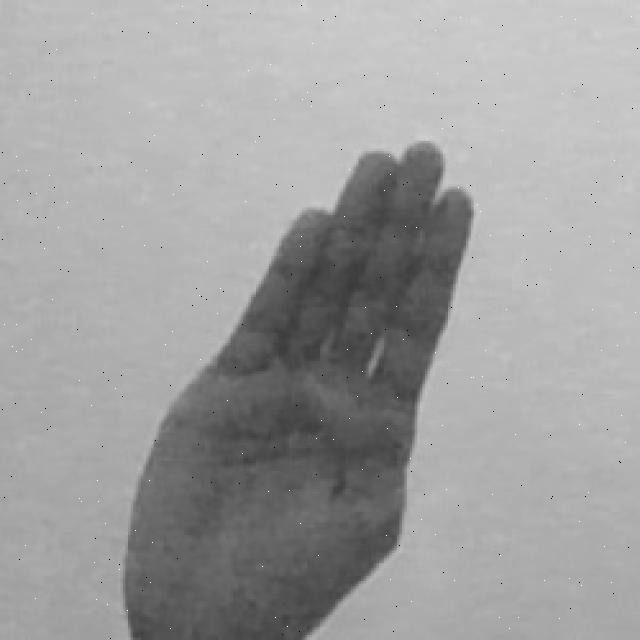B: (123, 138, 473, 640)
